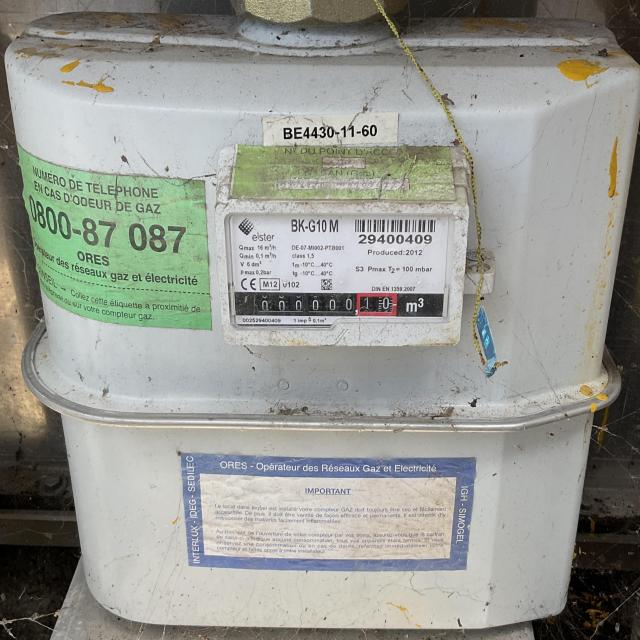gaz_meter: (224, 213, 456, 329)
indication: (234, 291, 397, 316)
